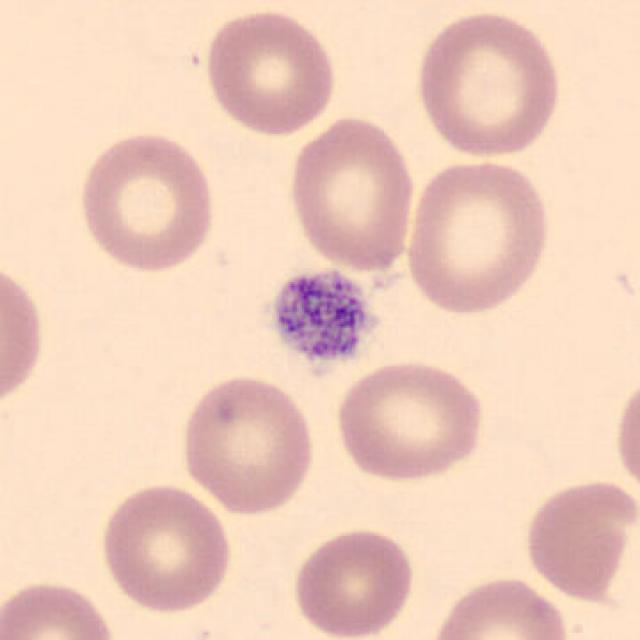Platelets: (265, 264, 379, 376)
RBC: (400, 154, 555, 319), (411, 7, 565, 160), (284, 111, 420, 275), (73, 127, 219, 275), (176, 370, 320, 517), (331, 356, 489, 485), (96, 480, 236, 616), (201, 5, 339, 140), (519, 474, 637, 603), (288, 524, 418, 638), (425, 571, 572, 640), (0, 254, 50, 414), (0, 576, 121, 640), (610, 368, 640, 501)
